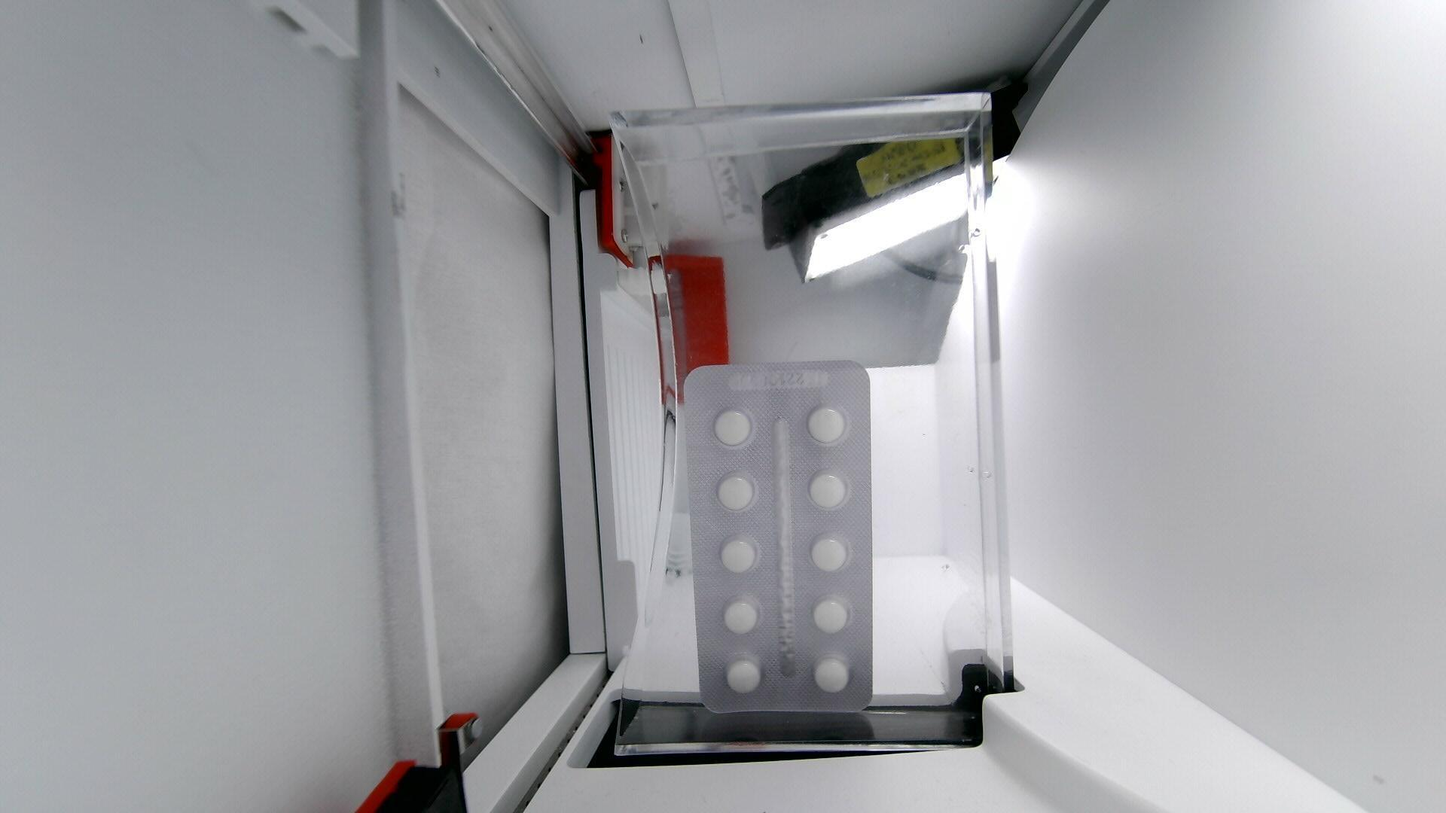Light Front: (683, 361, 871, 713)
Pill Front: (723, 595, 764, 636), (807, 405, 845, 446), (714, 406, 752, 446), (809, 472, 847, 510), (717, 473, 755, 511), (811, 536, 850, 571), (815, 655, 850, 693), (721, 537, 758, 572), (813, 596, 847, 633), (726, 659, 761, 693)
